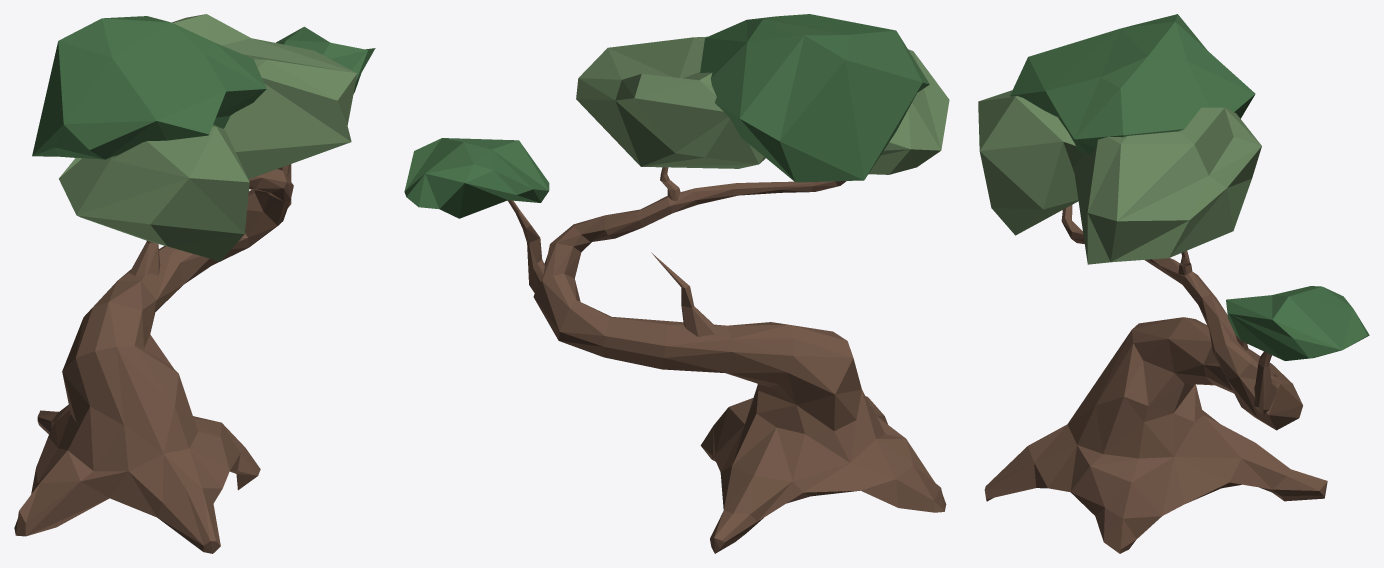
File: _tree_10.fbx
3 views of the same model, side by side, from view 1: azimuth 30°, elevation 25°; view 2: azimuth 150°, elevation 25°; view 3: azimuth 270°, elevation 25° (orthographic).
Parts seen in each view (by area): view 1: tree_10; view 2: tree_10; view 3: tree_10.
Boxes of the visible parts, bbox=[...] form: tree_10: bbox=[14, 14, 375, 553]; tree_10: bbox=[404, 14, 949, 553]; tree_10: bbox=[978, 14, 1369, 553].
Size of the model in its own units: 594 by 609 by 451.
